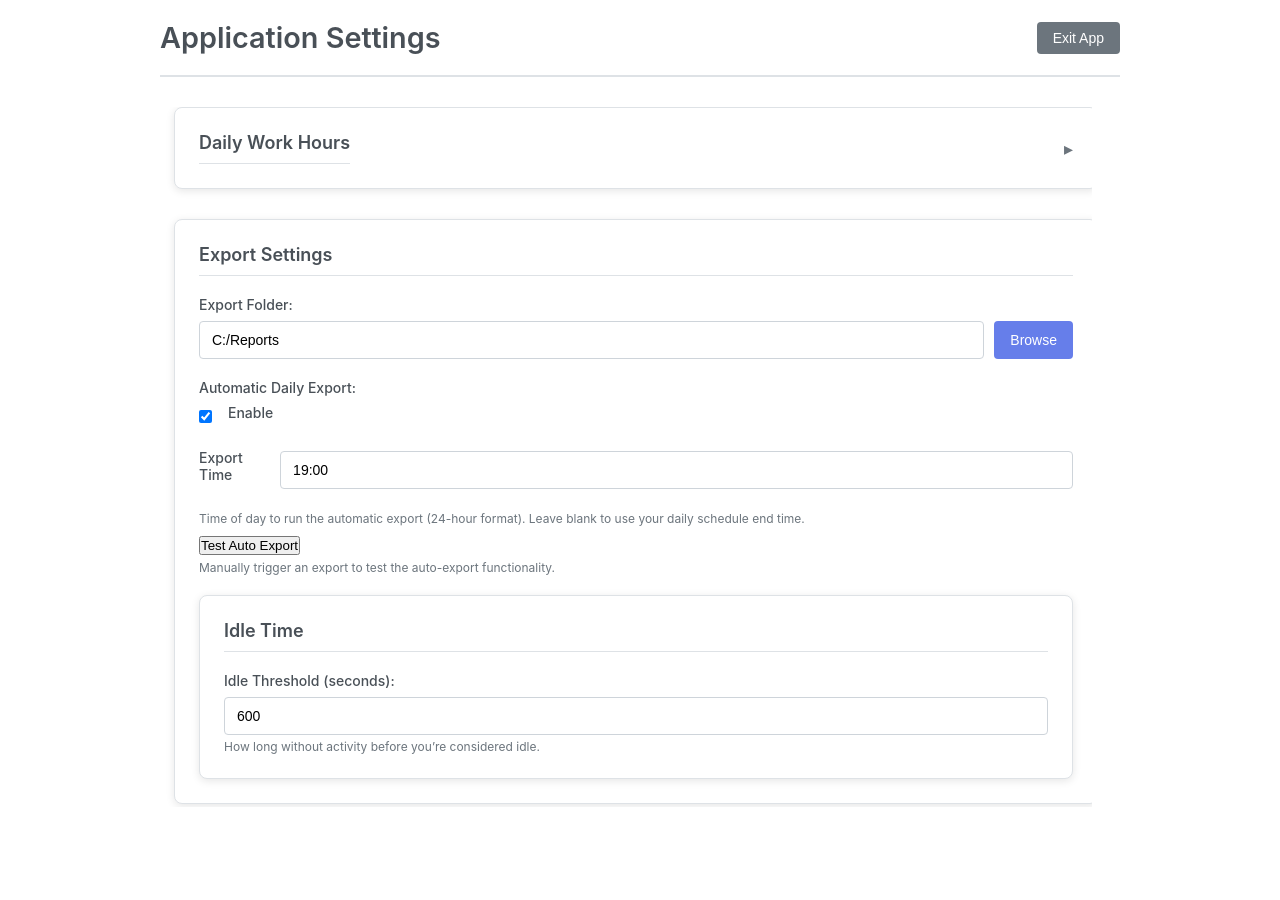
SettingsTab (RED) › select export folder through IPC helper and auto-save
Expected: the field showing "C:/Reports" is shown, [199,321,984,359]
Click the button "Browse". click: coordinates (1034, 340)
box: [994,321,1073,359]
Wait 600 ms
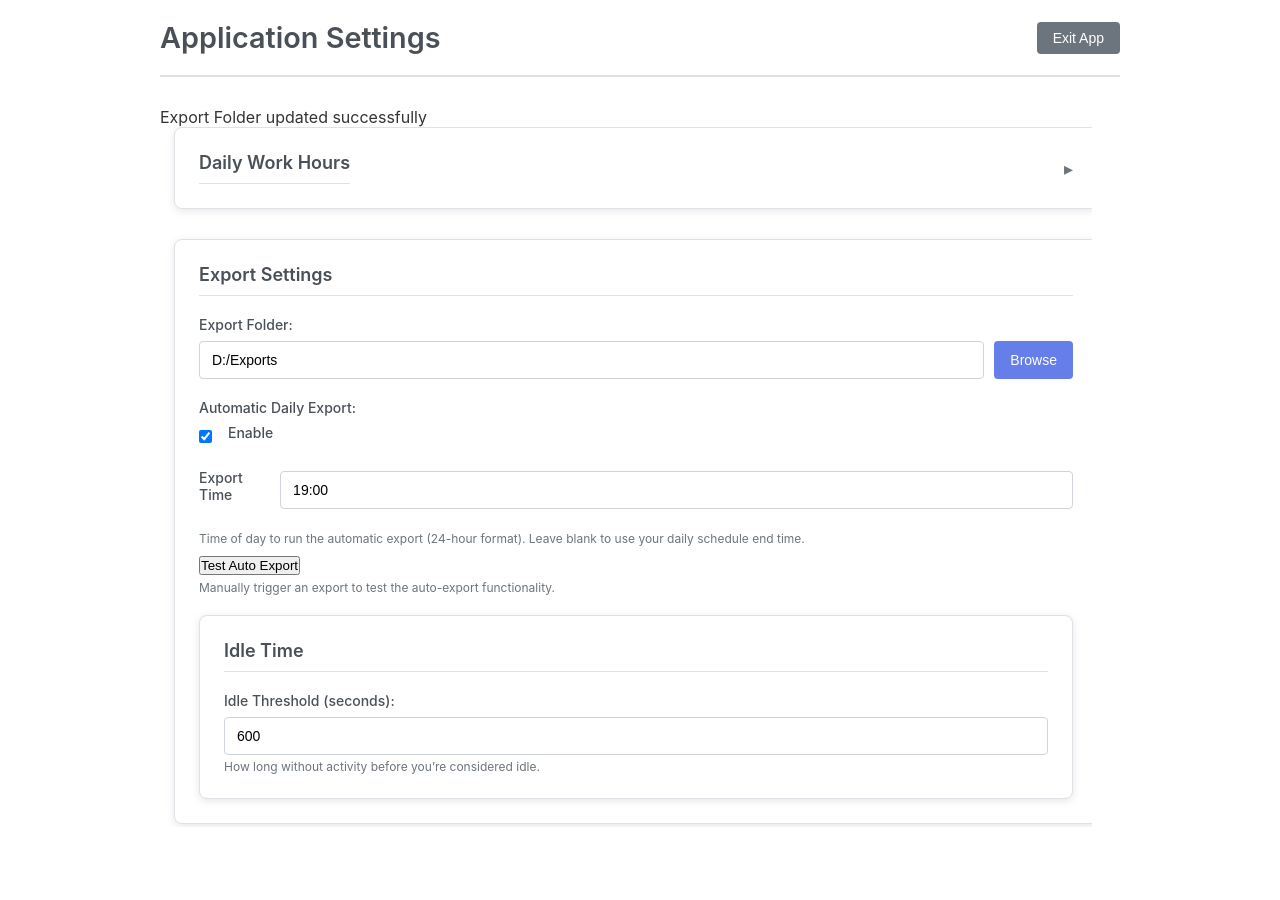
Now the field showing "D:/Exports" is shown, box [199,341,984,379]
Now the text "Export Folder updated successfully" is shown, box [160,107,427,127]
